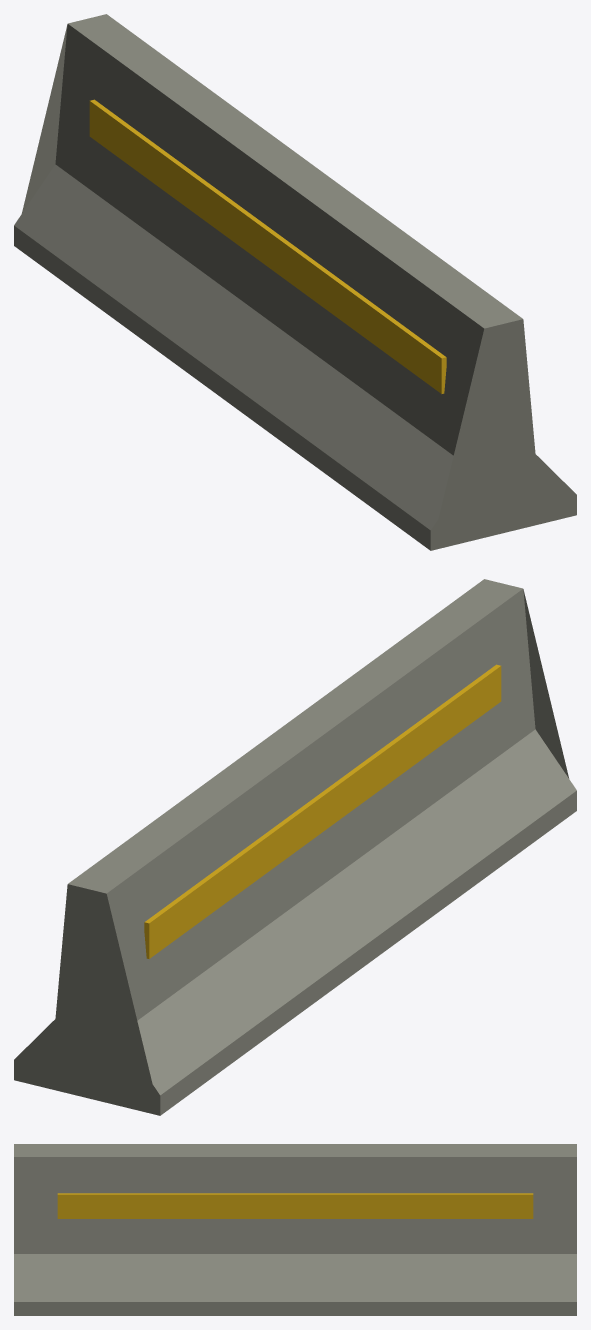
File: ct_trk_jersey.glb
The picture shows the model from 3 angles, top to bottom: view 1: azimuth 30°, elevation 25°; view 2: azimuth 150°, elevation 25°; view 3: azimuth 270°, elevation 25°; orthographic projection. The views are drawn at different scales.
Parts seen in each view (by area): view 1: ct_trk_jersey; view 2: ct_trk_jersey; view 3: ct_trk_jersey.
Boxes of the visible parts, x1=… form: ct_trk_jersey: x1=14, y1=14, x2=576, y2=550; ct_trk_jersey: x1=14, y1=579, x2=576, y2=1115; ct_trk_jersey: x1=14, y1=1144, x2=576, y2=1315.
Bounding box in the file's own units: 0.5998 × 0.82 × 2.96.
